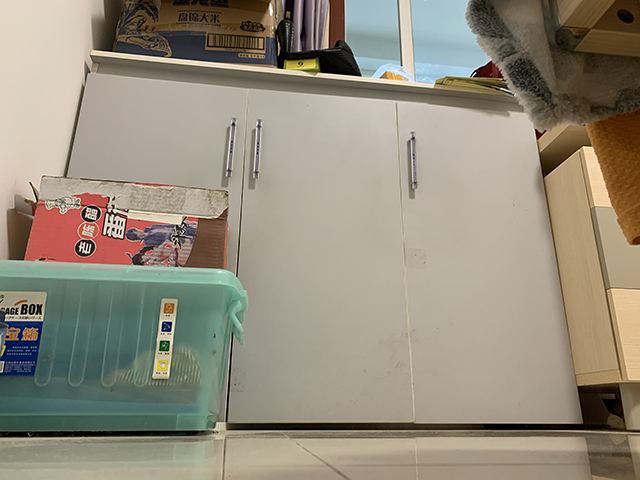cabinet: (64, 48, 586, 432)
